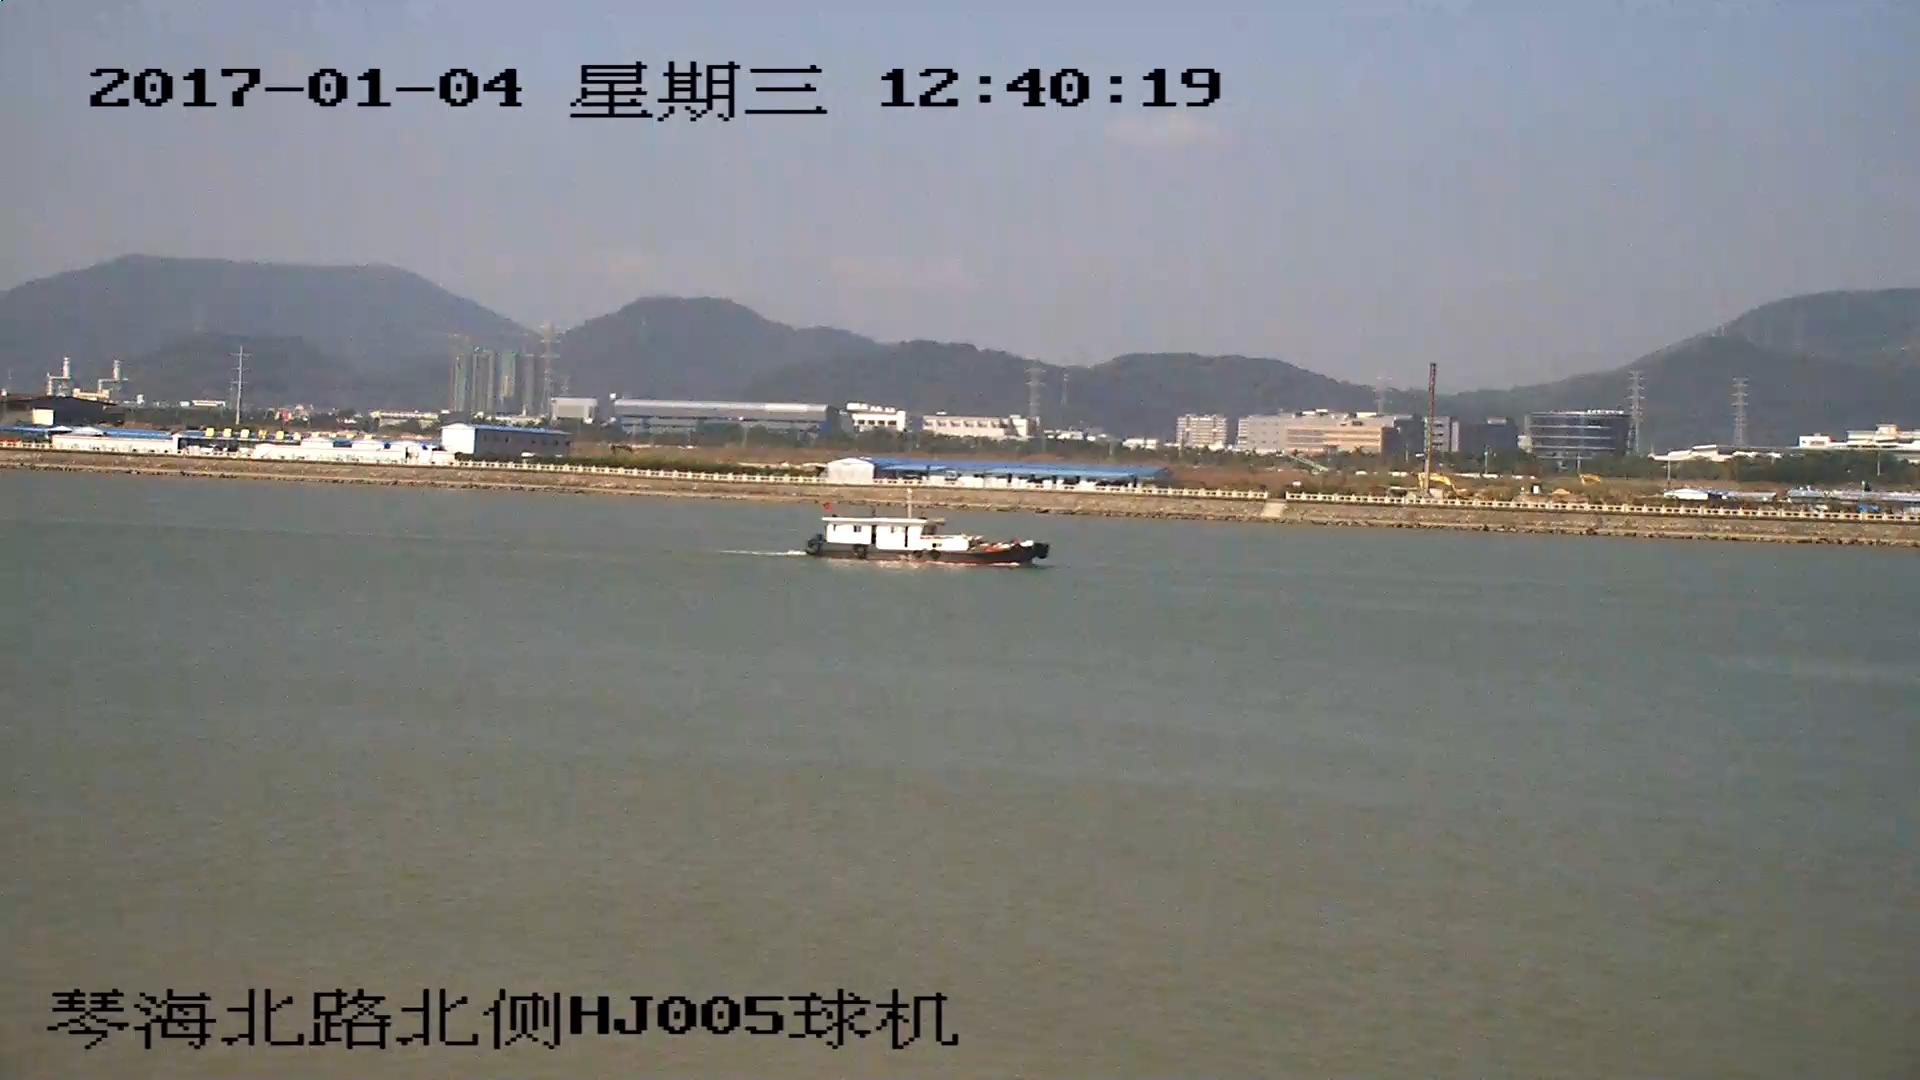fishing boat: (808, 495, 1050, 568)
